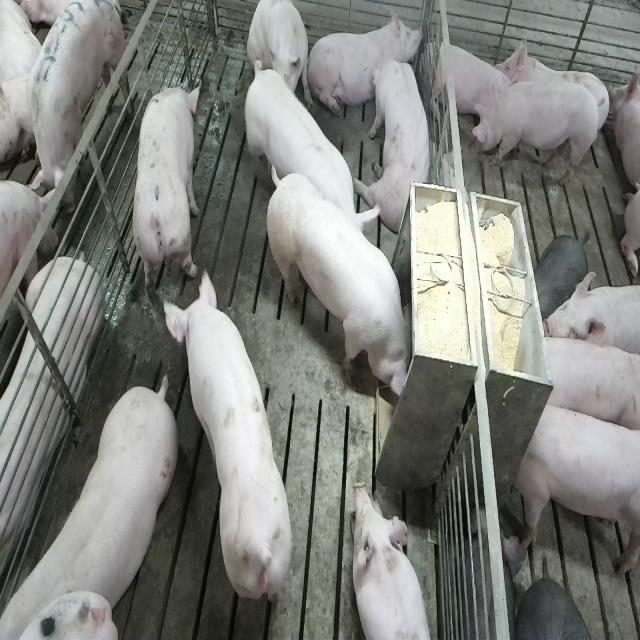Feeding: (270, 170, 422, 400)
Sitting: (364, 58, 436, 234), (247, 0, 310, 108)
Standing: (167, 264, 300, 620), (6, 373, 182, 634), (242, 61, 374, 259), (513, 396, 639, 580), (22, 0, 125, 209), (130, 81, 201, 301), (472, 82, 608, 188), (534, 330, 637, 435), (541, 276, 640, 368)
Sternal_lying: (0, 175, 102, 579), (351, 482, 432, 640), (314, 5, 422, 115), (426, 35, 512, 131)
